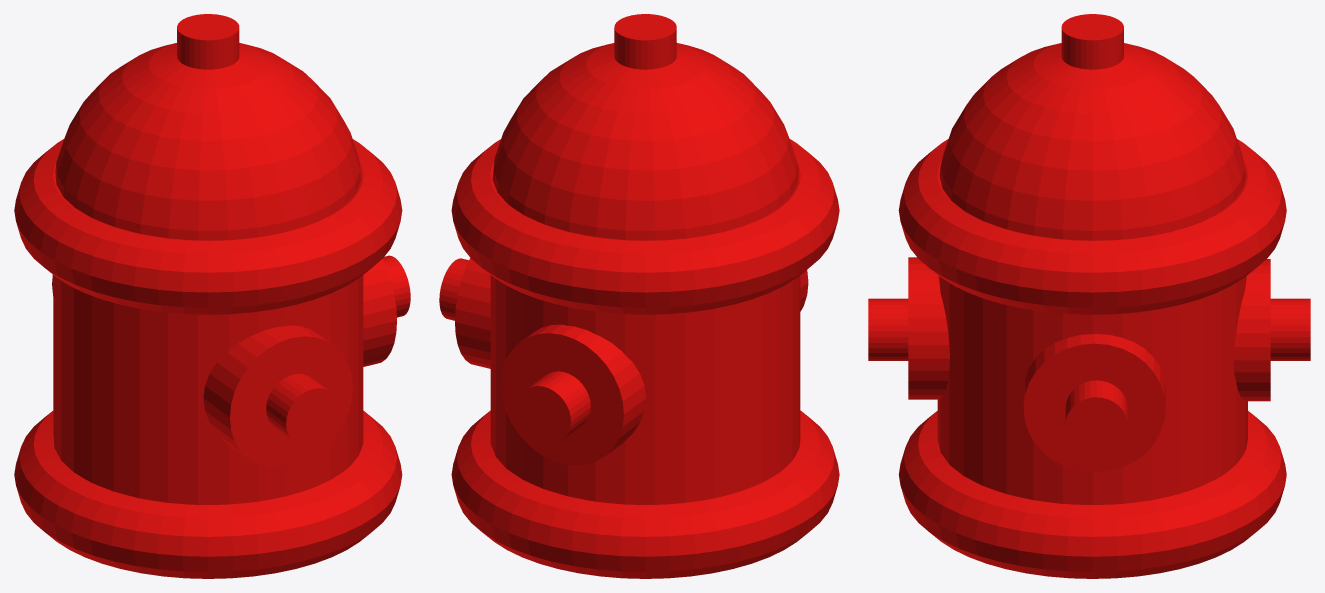
The model's file is Hydrant.fbx.
3 views of the same model, side by side, from view 1: azimuth 30°, elevation 25°; view 2: azimuth 150°, elevation 25°; view 3: azimuth 270°, elevation 25° (orthographic).
Visible parts, largest first — view 1: Cylinder; view 2: Cylinder; view 3: Cylinder.
Part boxes in pixels (bbox=[...]): Cylinder: bbox=[14, 14, 410, 578]; Cylinder: bbox=[439, 14, 839, 578]; Cylinder: bbox=[868, 14, 1310, 578].
Size of the model in its own units: 242 by 225 by 291.
